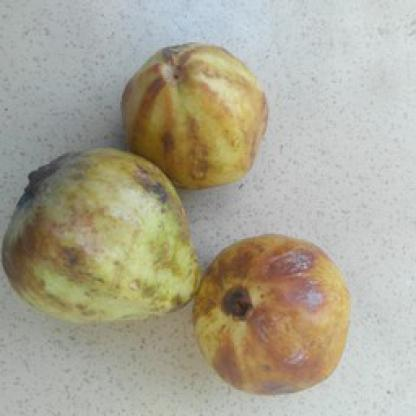guava_rotten: (3, 146, 203, 327), (188, 231, 354, 396), (116, 38, 268, 194)
